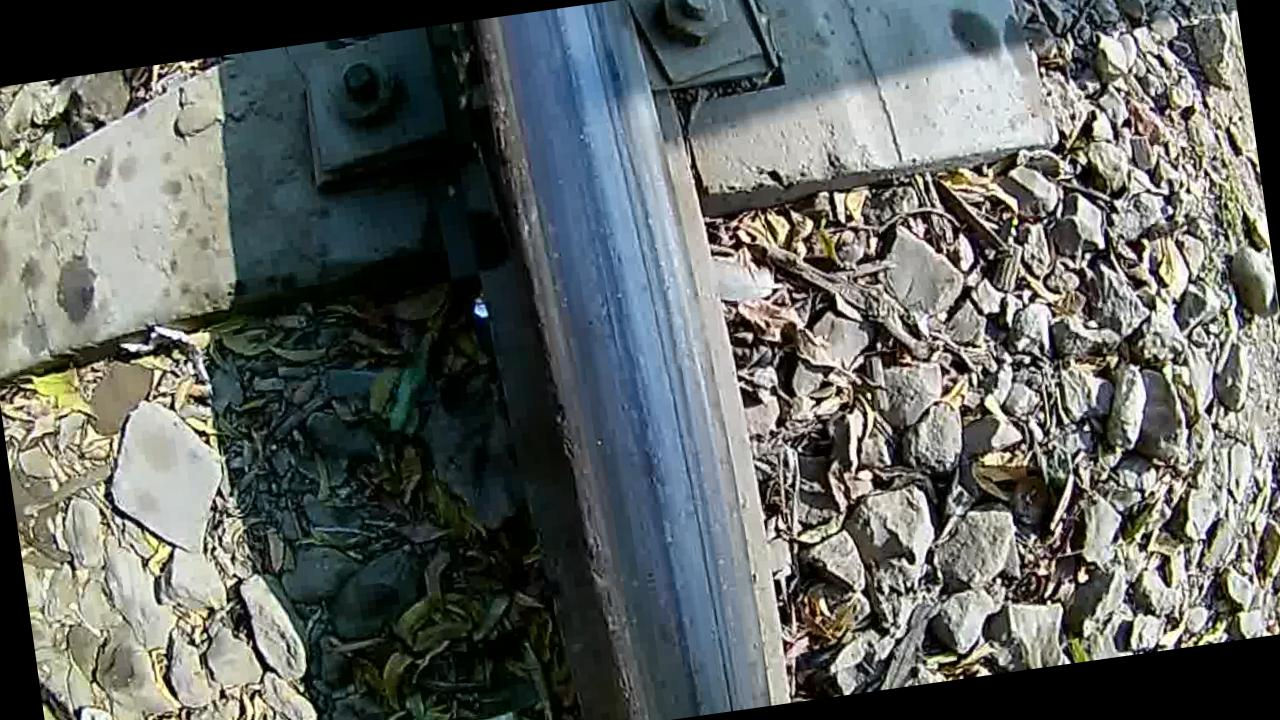clip_missing: (468, 0, 784, 720)
